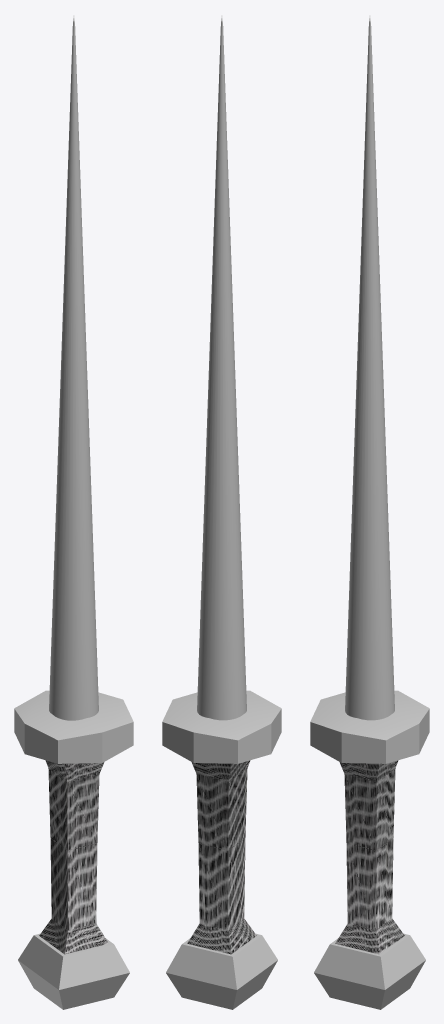
The model's file is sword thingy.fbx.
3 renders of one model, left to right at view 1: azimuth 30°, elevation 25°; view 2: azimuth 150°, elevation 25°; view 3: azimuth 330°, elevation 25°, orthographic.
Parts seen in each view (by area): view 1: Cone, Cube, Cube.002, Cube.001; view 2: Cone, Cube, Cube.002, Cube.001; view 3: Cone, Cube, Cube.002, Cube.001.
Boxes of the visible parts, x1,y1,x2,y2 form: Cone: (49, 15, 98, 720); Cube: (39, 760, 108, 954); Cube.002: (14, 690, 133, 763); Cube.001: (18, 933, 129, 1009); Cone: (197, 15, 246, 720); Cube: (187, 760, 256, 954); Cube.002: (162, 690, 281, 763); Cube.001: (166, 933, 277, 1009); Cone: (345, 15, 394, 720); Cube: (335, 760, 404, 954); Cube.002: (310, 690, 429, 763); Cube.001: (314, 933, 425, 1009).
Bounding box in the file's own units: 38.58 × 366 × 38.58.
